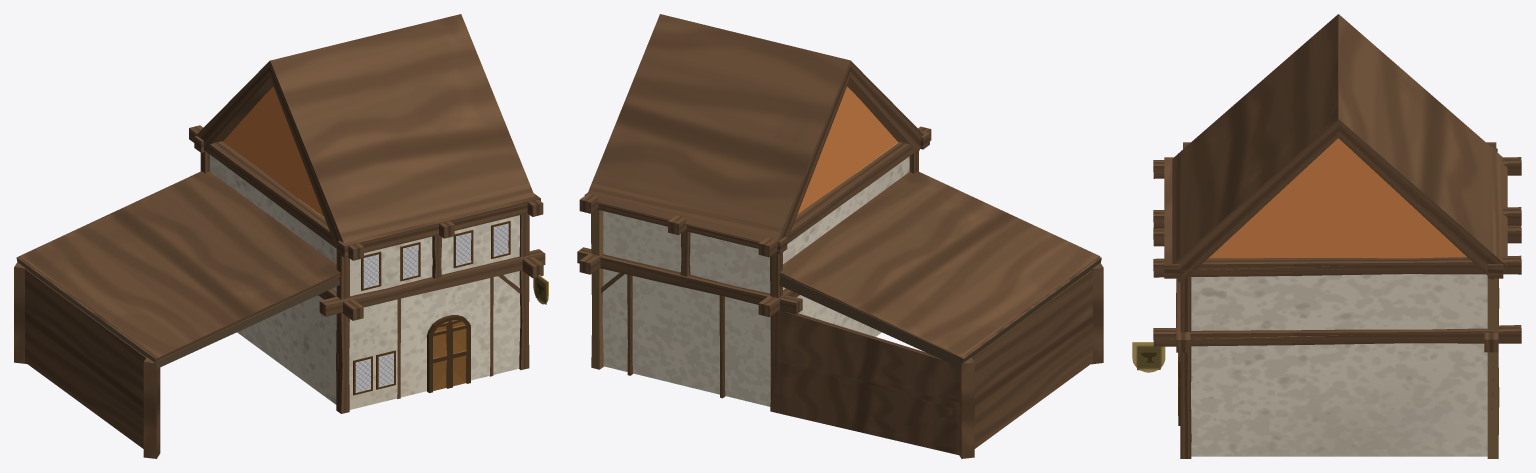
File: BlackSmith House LOD V.fbx
The picture shows the model from 3 angles, left to right: view 1: azimuth 30°, elevation 25°; view 2: azimuth 150°, elevation 25°; view 3: azimuth 270°, elevation 25°; orthographic projection. The views are drawn at different scales.
Visible parts, largest first — view 1: BlackSmith_LOD0, BlackSmith_LOD0.001, BlackSmith_LOD0.002, BlackSmith_LOD0.003; view 2: BlackSmith_LOD0, BlackSmith_LOD0.001, BlackSmith_LOD0.002, BlackSmith_LOD0.003; view 3: BlackSmith_LOD0, BlackSmith_LOD0.001, BlackSmith_LOD0.003, BlackSmith_LOD0.002.
Boxes of the visible parts, left/top/right/bottom form: BlackSmith_LOD0: left=14, top=14, right=548, bottom=458; BlackSmith_LOD0.001: left=14, top=61, right=548, bottom=458; BlackSmith_LOD0.002: left=326, top=215, right=548, bottom=408; BlackSmith_LOD0.003: left=159, top=126, right=546, bottom=391; BlackSmith_LOD0: left=577, top=14, right=1103, bottom=458; BlackSmith_LOD0.001: left=579, top=17, right=1103, bottom=458; BlackSmith_LOD0.002: left=577, top=152, right=960, bottom=455; BlackSmith_LOD0.003: left=579, top=70, right=957, bottom=412; BlackSmith_LOD0: left=1132, top=14, right=1521, bottom=458; BlackSmith_LOD0.001: left=1132, top=121, right=1521, bottom=456; BlackSmith_LOD0.003: left=1137, top=134, right=1521, bottom=414; BlackSmith_LOD0.002: left=1133, top=279, right=1498, bottom=372.
Size of the model in its own units: 20.9 by 15.42 by 15.88.
16 materials, 5 textured.
